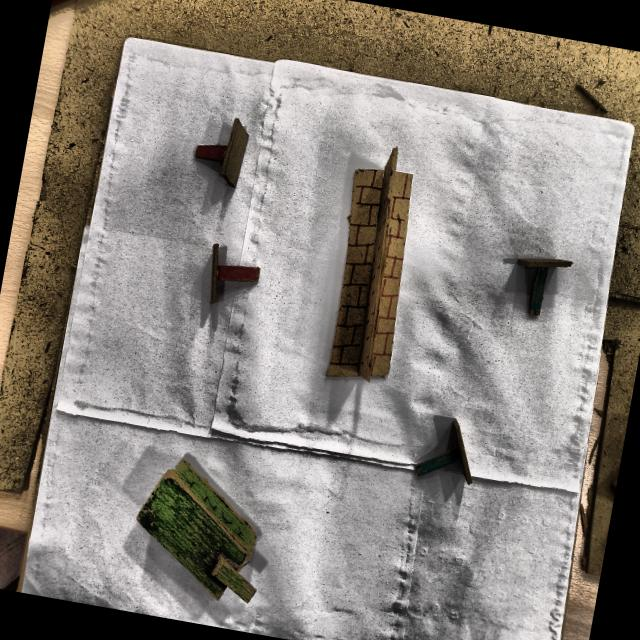Dead soldier -enemy-: (192, 117, 261, 192), (202, 238, 264, 305)
Dead soldier -frd-: (410, 414, 479, 516), (500, 249, 575, 327)
Tank: (135, 457, 266, 605)
Wall: (322, 151, 413, 384)
